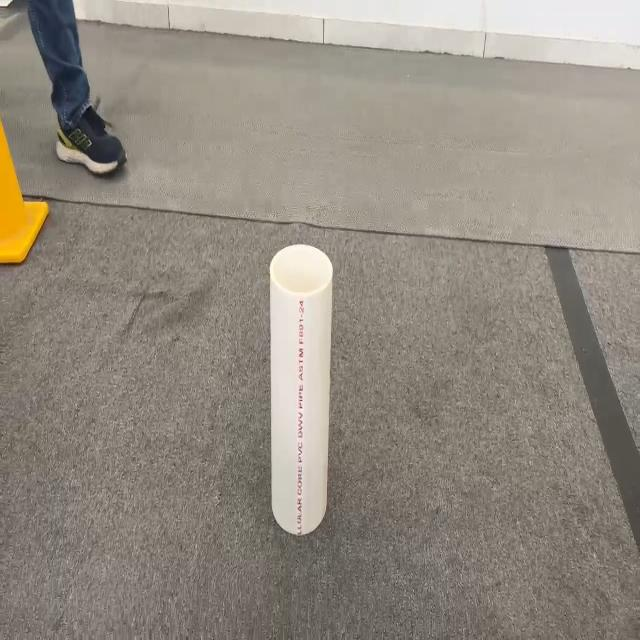coral: (269, 243, 333, 536)
